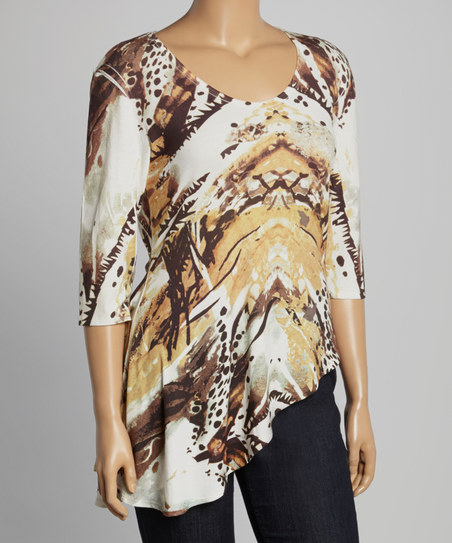C_blouse: (61, 13, 388, 520)
F_W_pants: (121, 356, 368, 543)
